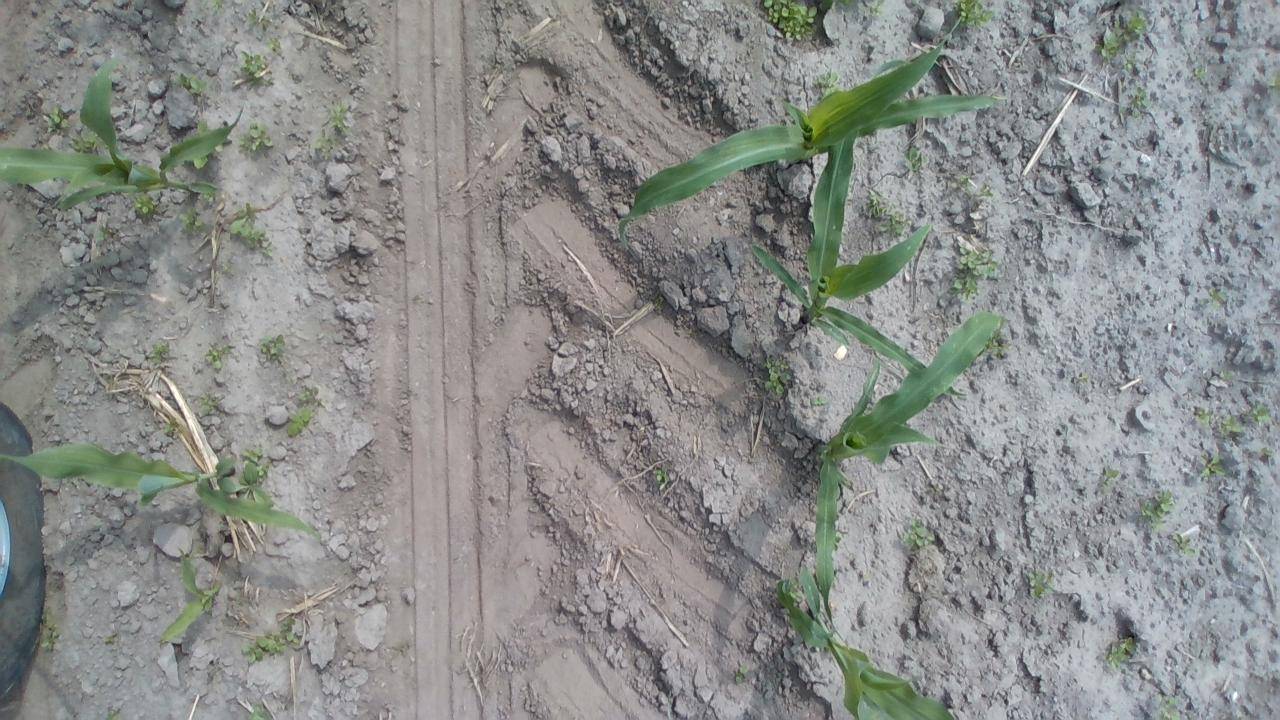Maize: (616, 0, 1004, 249), (812, 310, 1006, 647), (748, 116, 966, 398), (0, 52, 246, 207), (0, 438, 323, 541), (778, 562, 960, 720), (158, 544, 221, 644)
Weeds: (950, 242, 1000, 305), (1092, 8, 1148, 62), (240, 615, 298, 663), (218, 460, 274, 506), (230, 204, 274, 257), (762, 0, 818, 41), (864, 190, 912, 236), (287, 386, 321, 438), (1136, 488, 1176, 530), (238, 47, 274, 86), (952, 0, 995, 32), (758, 355, 792, 395), (984, 316, 1014, 360), (175, 205, 209, 240), (69, 127, 109, 156), (1104, 636, 1136, 672), (899, 519, 935, 550), (40, 608, 62, 656), (239, 122, 272, 154), (816, 69, 850, 99), (172, 70, 208, 96), (1025, 568, 1058, 596), (902, 144, 929, 174), (1172, 529, 1200, 557), (132, 191, 161, 218), (328, 102, 352, 134), (314, 129, 338, 161), (1199, 451, 1226, 478), (1156, 692, 1182, 720), (258, 334, 286, 360), (1243, 402, 1273, 424), (206, 342, 230, 368), (195, 391, 218, 417), (47, 110, 73, 132), (146, 340, 168, 366), (1216, 414, 1242, 435), (1102, 464, 1122, 488), (1130, 87, 1152, 108), (950, 173, 972, 194), (246, 8, 273, 24), (786, 578, 801, 606), (859, 0, 885, 16), (1266, 69, 1280, 97), (1194, 406, 1214, 425), (1208, 286, 1226, 307), (241, 446, 264, 462), (246, 704, 268, 720), (95, 224, 114, 242), (974, 182, 993, 199), (654, 463, 668, 486), (834, 531, 848, 552), (820, 0, 854, 8), (218, 256, 233, 273), (735, 665, 747, 685), (811, 395, 830, 407), (652, 293, 666, 309), (192, 155, 208, 169), (198, 192, 218, 202), (1123, 56, 1137, 70), (210, 0, 223, 15), (191, 542, 206, 554), (106, 709, 122, 720), (268, 37, 282, 49), (162, 422, 176, 434), (1258, 446, 1273, 457), (1191, 67, 1207, 77), (1218, 369, 1232, 380), (1076, 372, 1089, 383), (104, 634, 118, 644), (1130, 110, 1144, 120), (198, 120, 210, 131), (216, 141, 226, 153), (686, 328, 697, 338)
